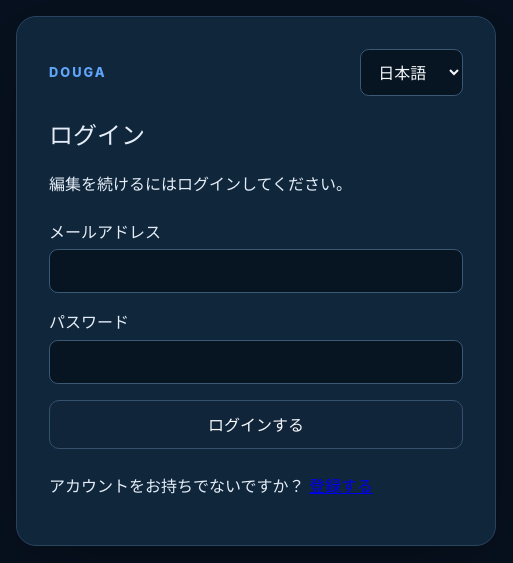
Test case: App › uses Japanese by default and can switch to English
The image size is (513, 563).
Expected: the heading "ログイン" is shown, [49,121,145,150]
Select "English" in the dropdown named "言語" at (412, 73), box [360,50,463,96]
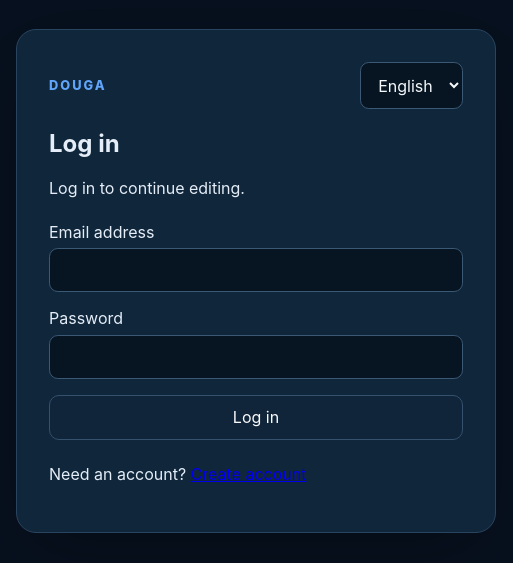
Now the heading "Log in" is shown, box [49,129,120,158]
